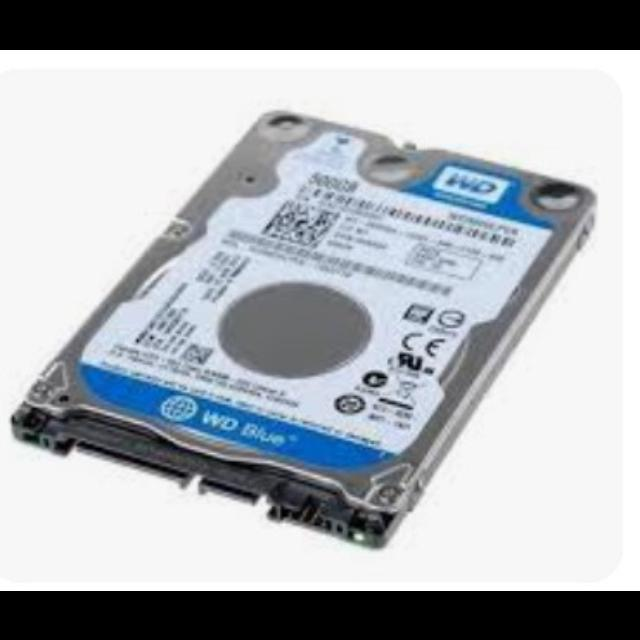HDD: (9, 108, 598, 551)
